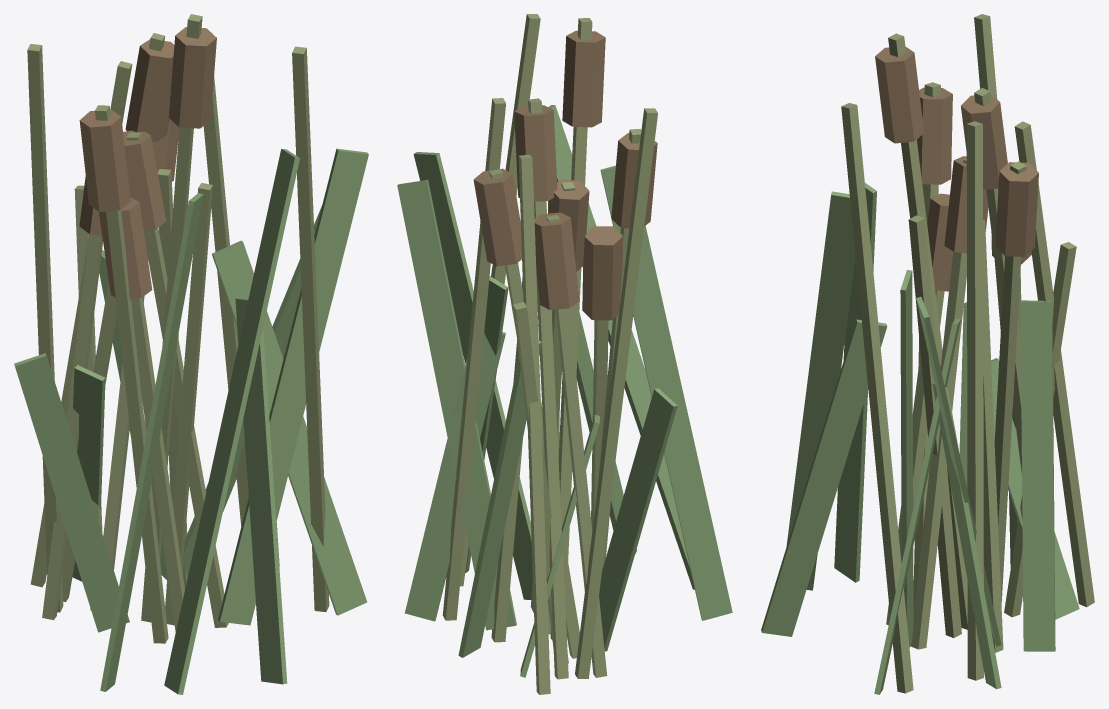
Rendered from Reeds.glb.
The picture shows the model from 3 angles, left to right: view 1: azimuth 30°, elevation 25°; view 2: azimuth 150°, elevation 25°; view 3: azimuth 270°, elevation 25°; orthographic projection. The views are drawn at different scales.
Visible parts, largest first — view 1: Reeds; view 2: Reeds; view 3: Reeds.
Boxes of the visible parts, x1=… form: Reeds: x1=14, y1=14, x2=368, y2=694; Reeds: x1=397, y1=14, x2=732, y2=694; Reeds: x1=761, y1=14, x2=1094, y2=694.
Bounding box in the file's own units: 3.9 × 7.29 × 3.7.
